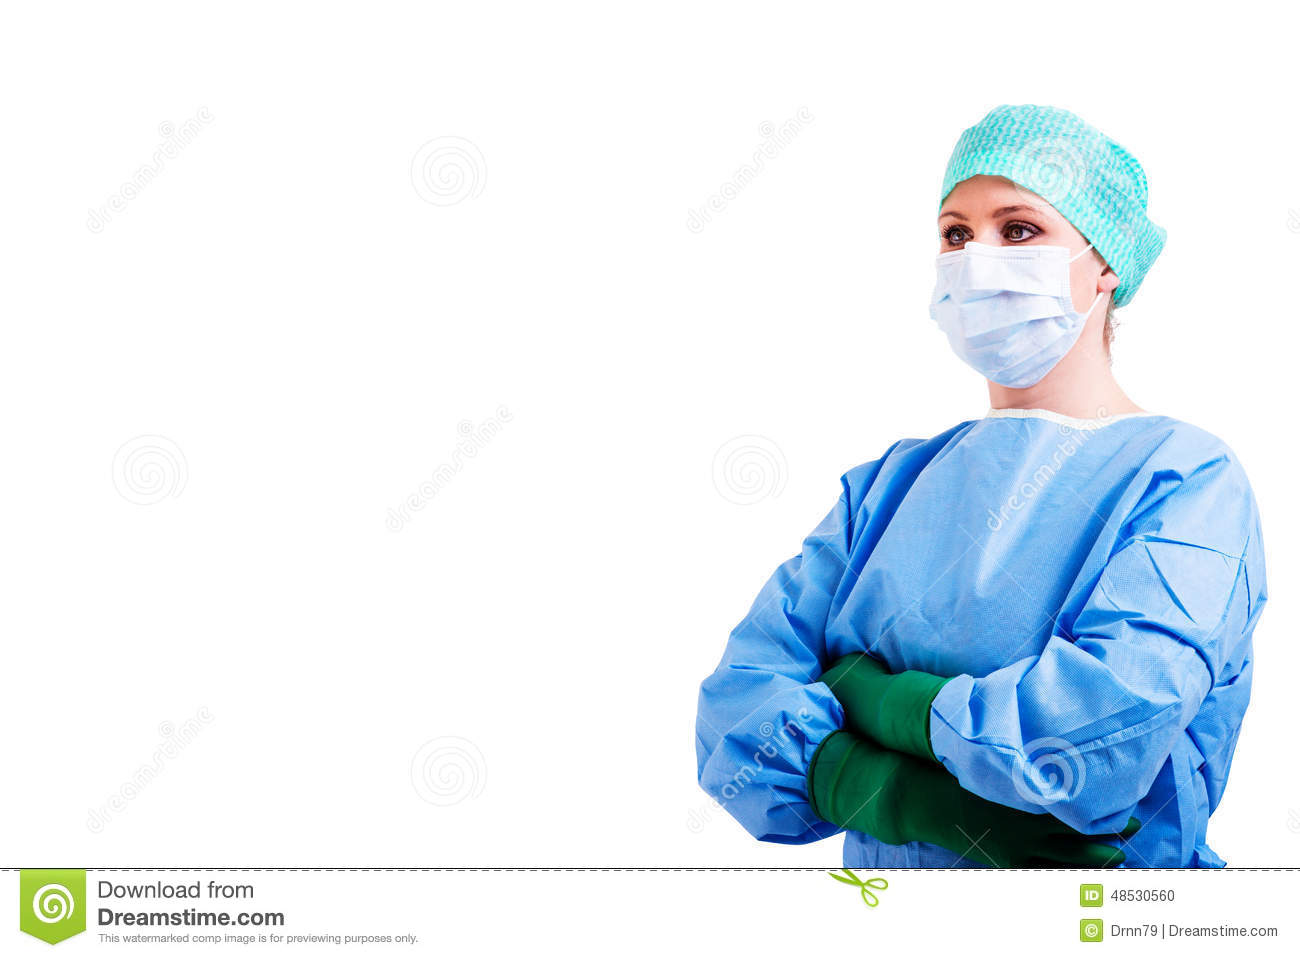mask: (931, 245, 1104, 376)
